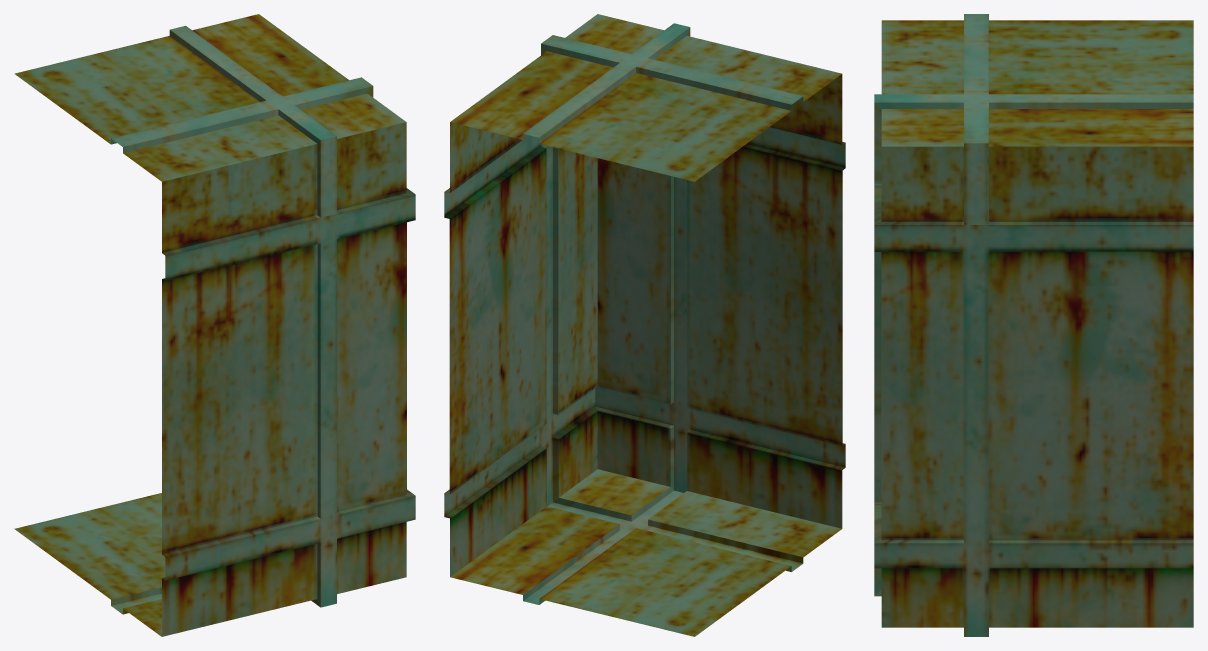
The model's file is easterCube.glb.
The picture shows the model from 3 angles, left to right: view 1: azimuth 30°, elevation 25°; view 2: azimuth 150°, elevation 25°; view 3: azimuth 270°, elevation 25°; orthographic projection. The views are drawn at different scales.
Parts seen in each view (by area): view 1: door; view 2: door; view 3: door.
Boxes of the visible parts, box(x1,y1,x2,y2) form: door: box(14, 14, 415, 636); door: box(444, 14, 845, 636); door: box(874, 14, 1193, 636).
Size of the model in its own units: 0.2852 by 0.5084 by 0.2978.
Materials: 1 (1 with a texture image).
